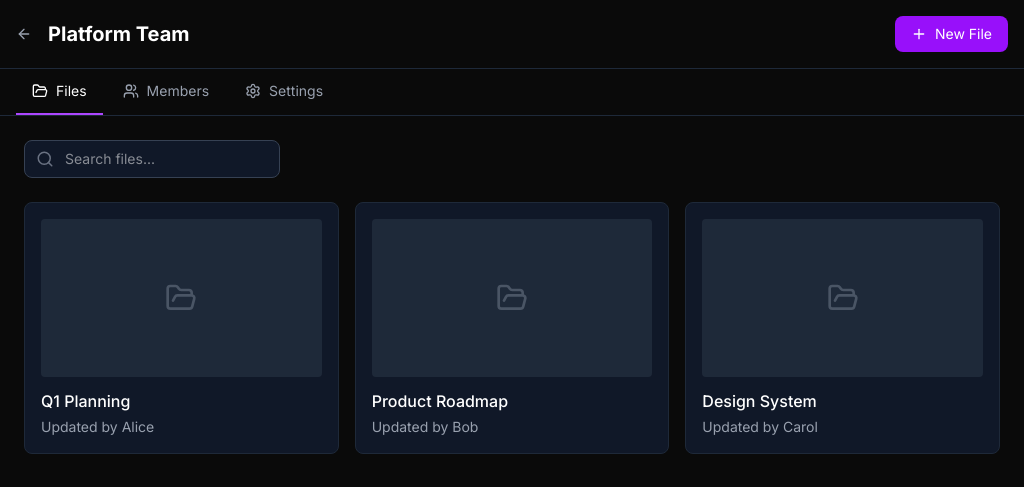
Test: /teams/[teamSlug] — the route slug › seeds the settings Team Name input from the slug
Click the button "Settings": (284, 92) [229, 69, 339, 115]
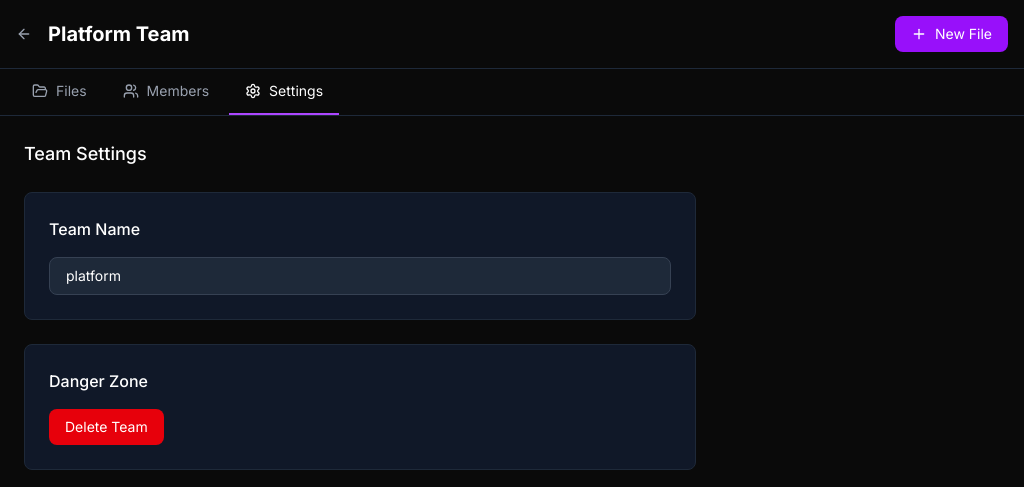
Expected: the field showing "platform" is shown, [49, 257, 671, 295]
